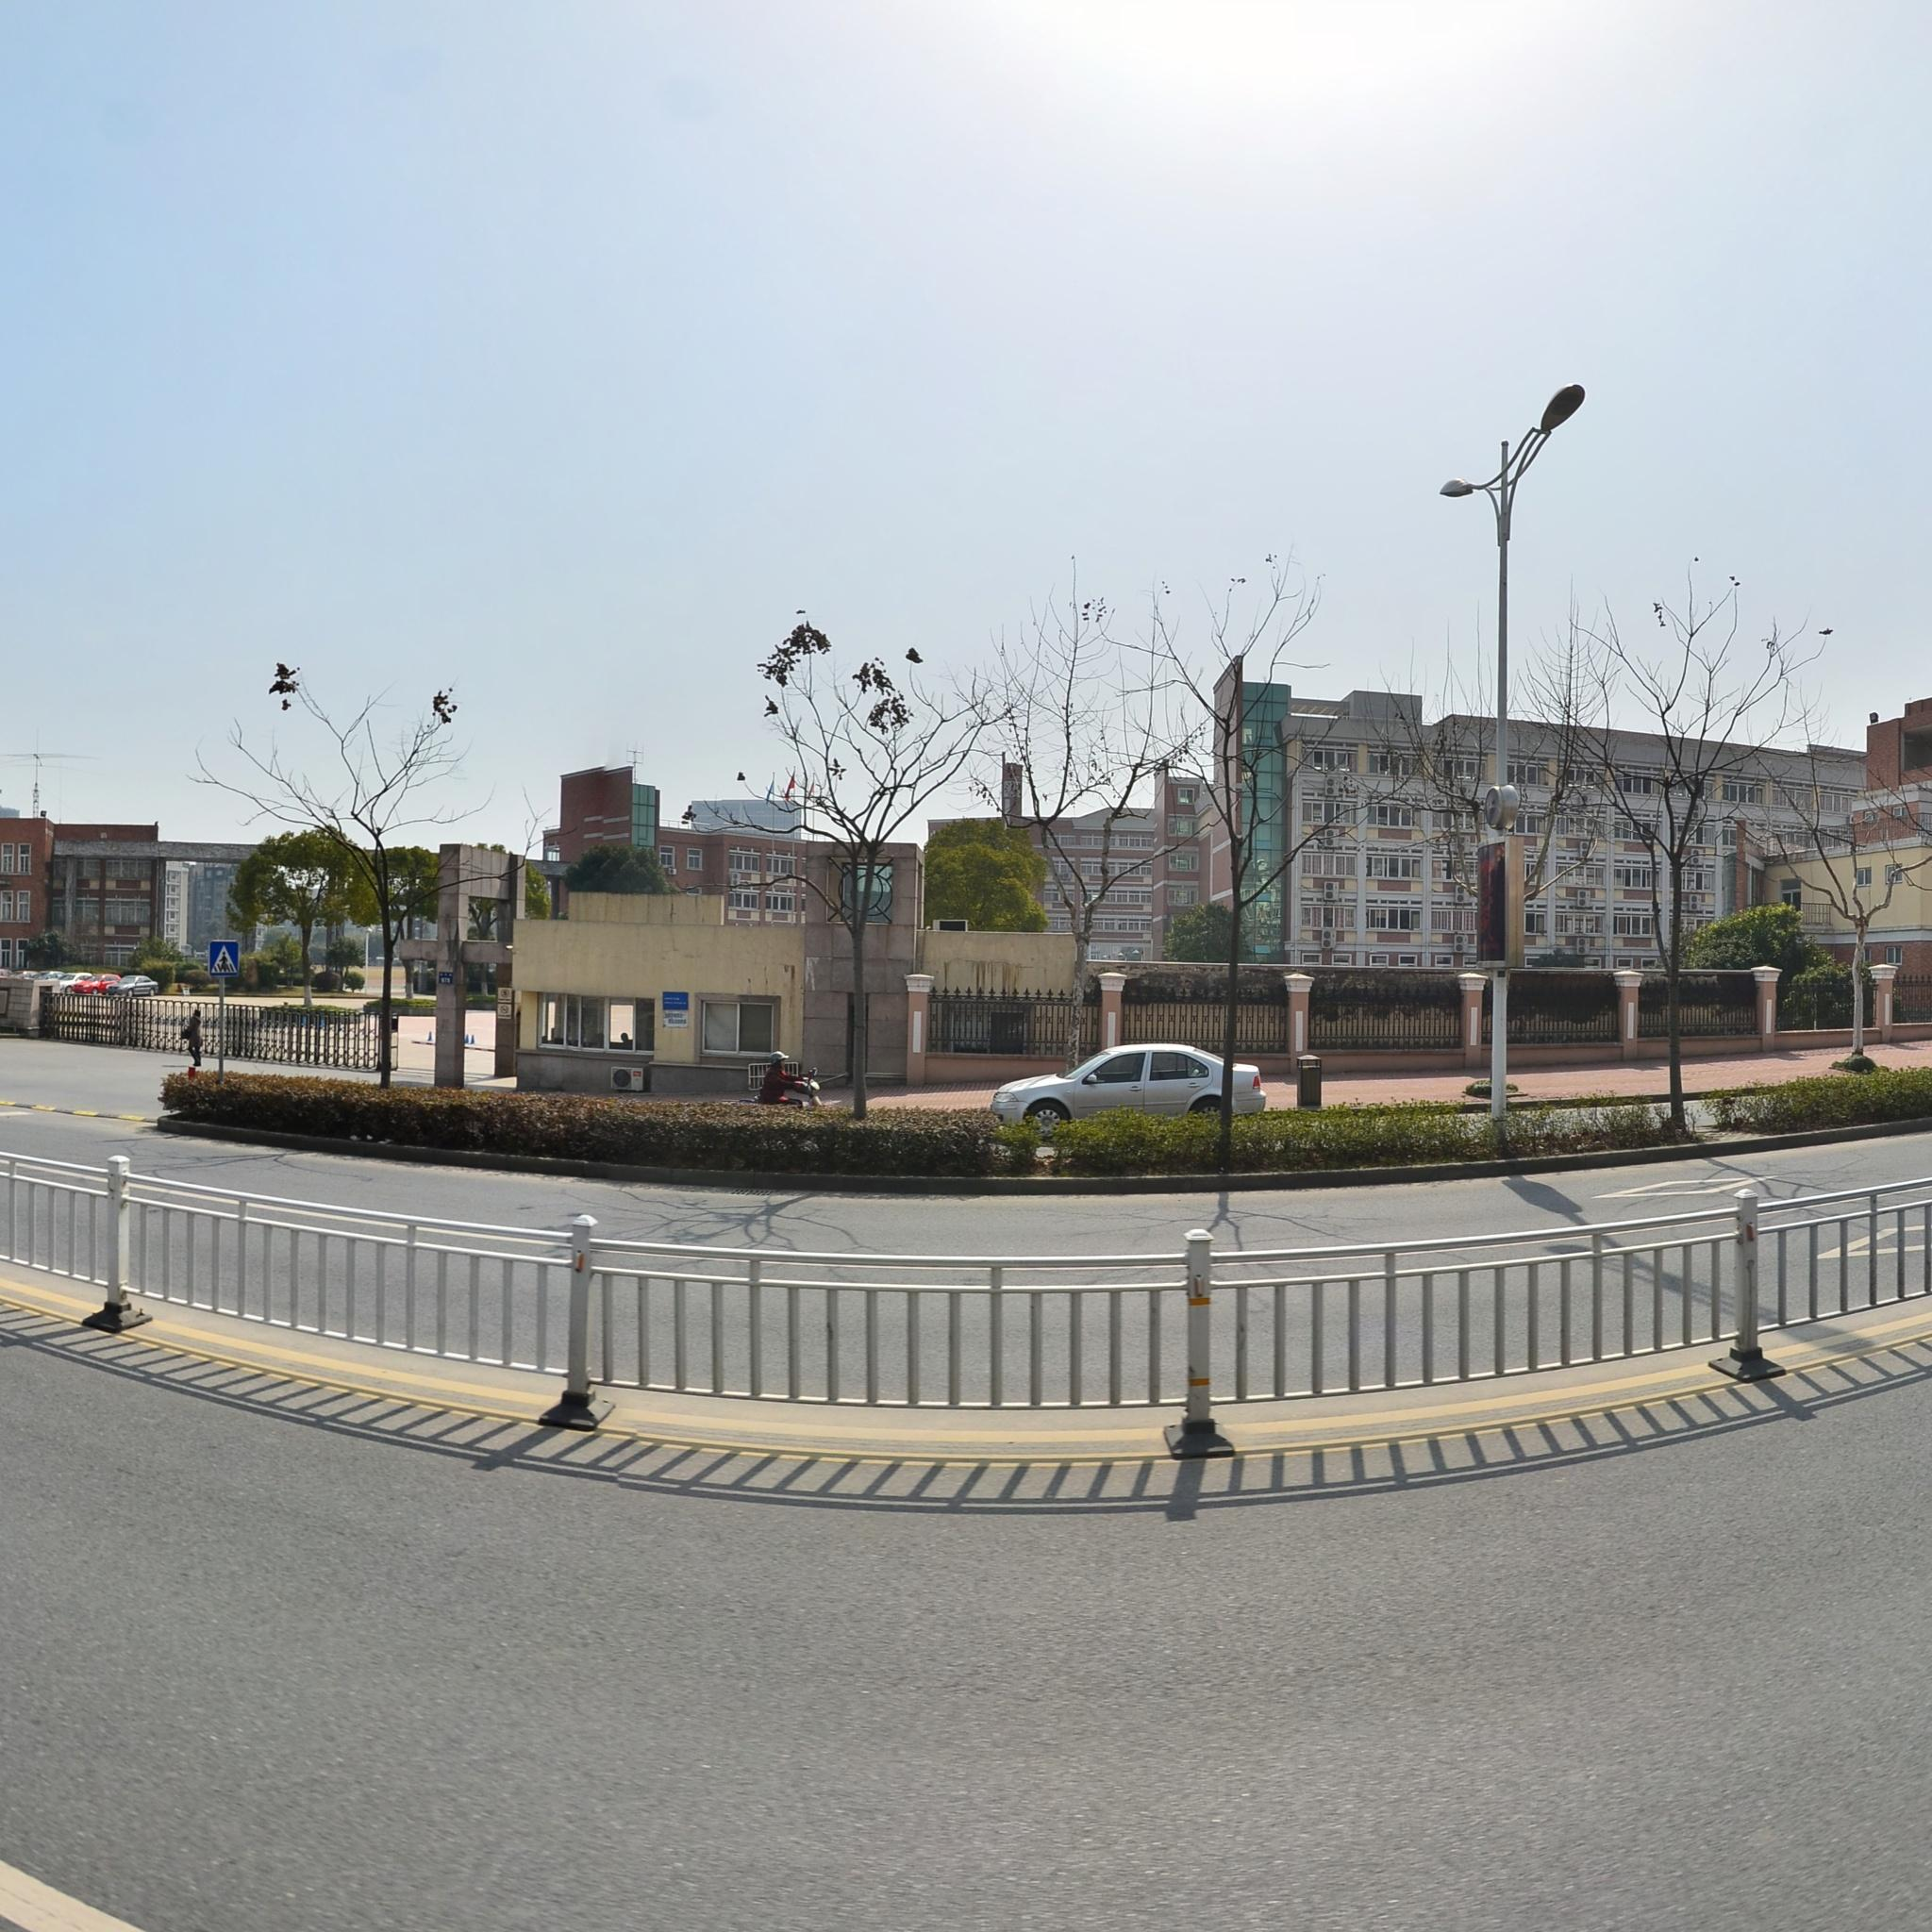ip: (209, 943, 237, 977)
